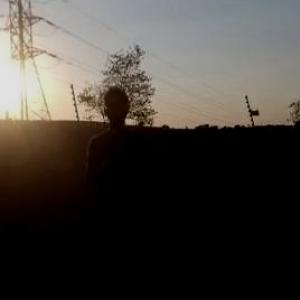follow: (84, 83, 159, 299)
